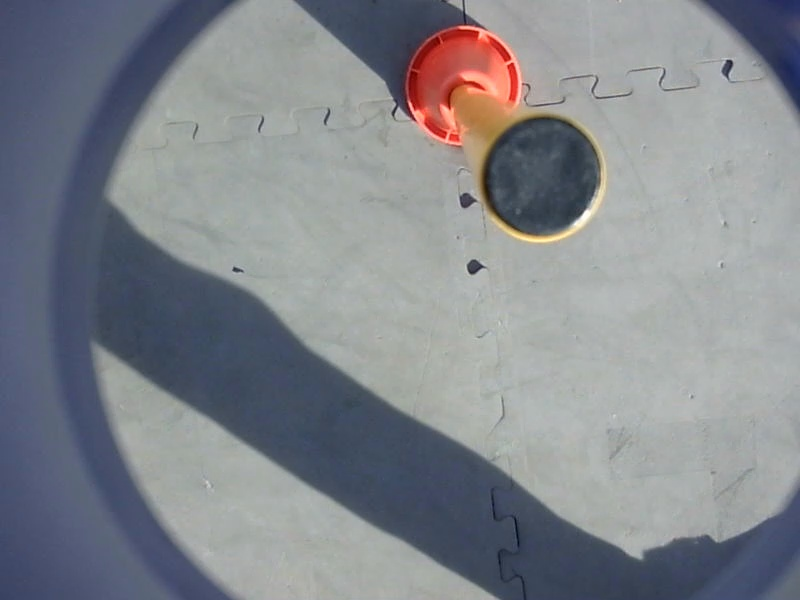tip: (472, 108, 610, 250)
